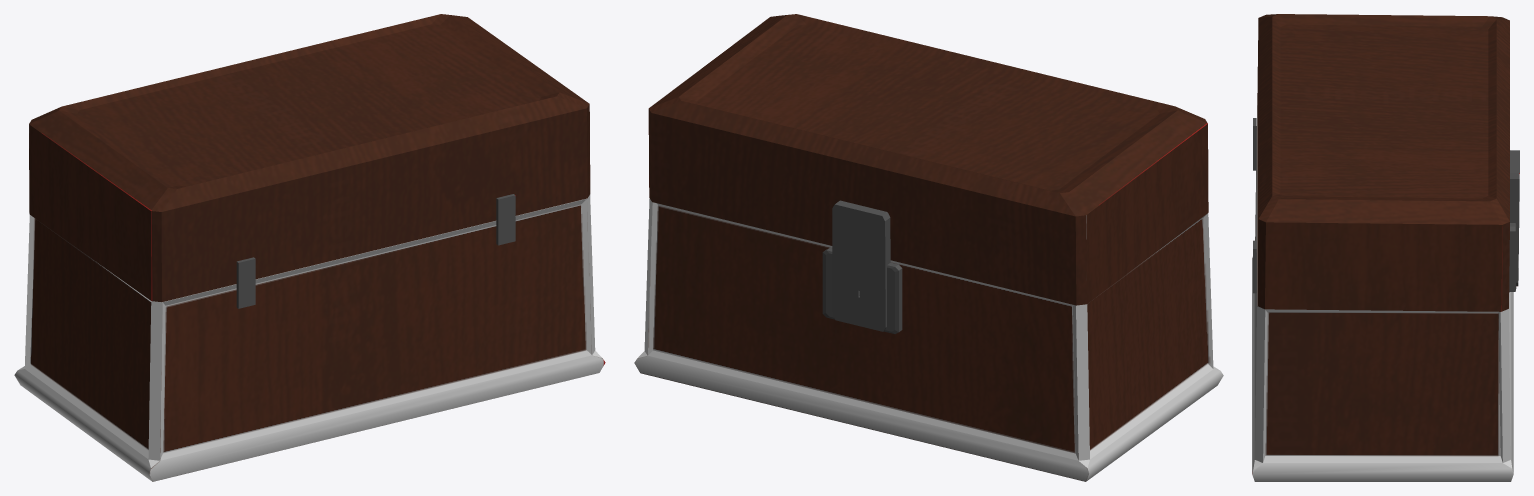
Rendered from Mimic.fbx.
The picture shows the model from 3 angles, left to right: view 1: azimuth 30°, elevation 25°; view 2: azimuth 150°, elevation 25°; view 3: azimuth 270°, elevation 25°; orthographic projection. The views are drawn at different scales.
Visible parts, largest first — view 1: pasted__group8_pasted__pCylinder2, pCube8; view 2: pasted__group8_pasted__pCylinder2, pCube8; view 3: pasted__group8_pasted__pCylinder2, pCube8.
Boxes of the visible parts, x1,y1,x2,y2 form: pasted__group8_pasted__pCylinder2: [29, 14, 590, 302]; pCube8: [14, 194, 605, 481]; pasted__group8_pasted__pCylinder2: [648, 14, 1208, 331]; pCube8: [634, 198, 1223, 481]; pasted__group8_pasted__pCylinder2: [1257, 14, 1519, 311]; pCube8: [1252, 105, 1516, 481].
Size of the model in its own units: 2.03 by 1.18 by 1.06.
